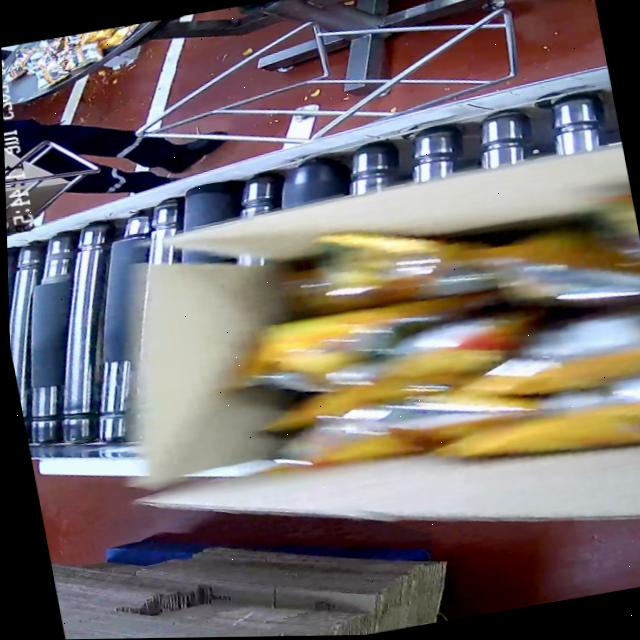FRENCH_CHEESE: (205, 159, 640, 510)
